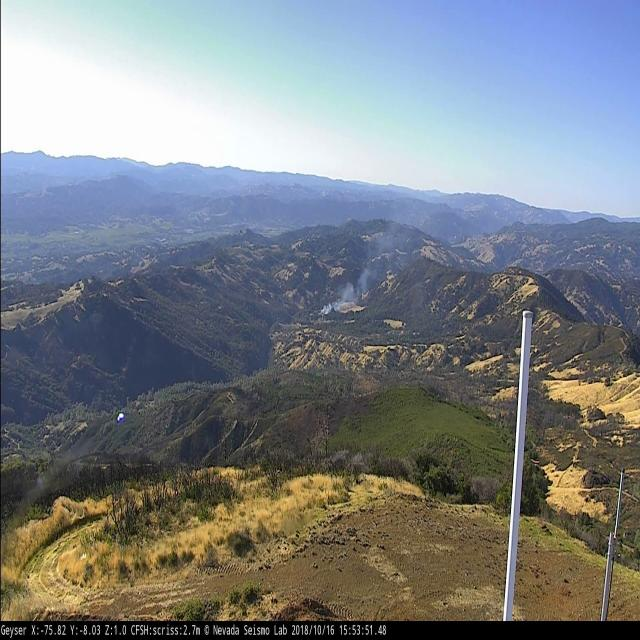smoke: (317, 210, 413, 314)
